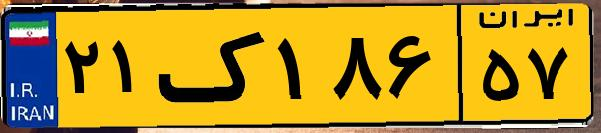1: (270, 28, 330, 110), (110, 28, 158, 98)
2: (57, 26, 110, 100)
5: (475, 38, 525, 113)
6: (385, 28, 445, 110)
7: (525, 38, 570, 115)
8: (330, 28, 385, 110)
ک: (158, 12, 270, 120)
